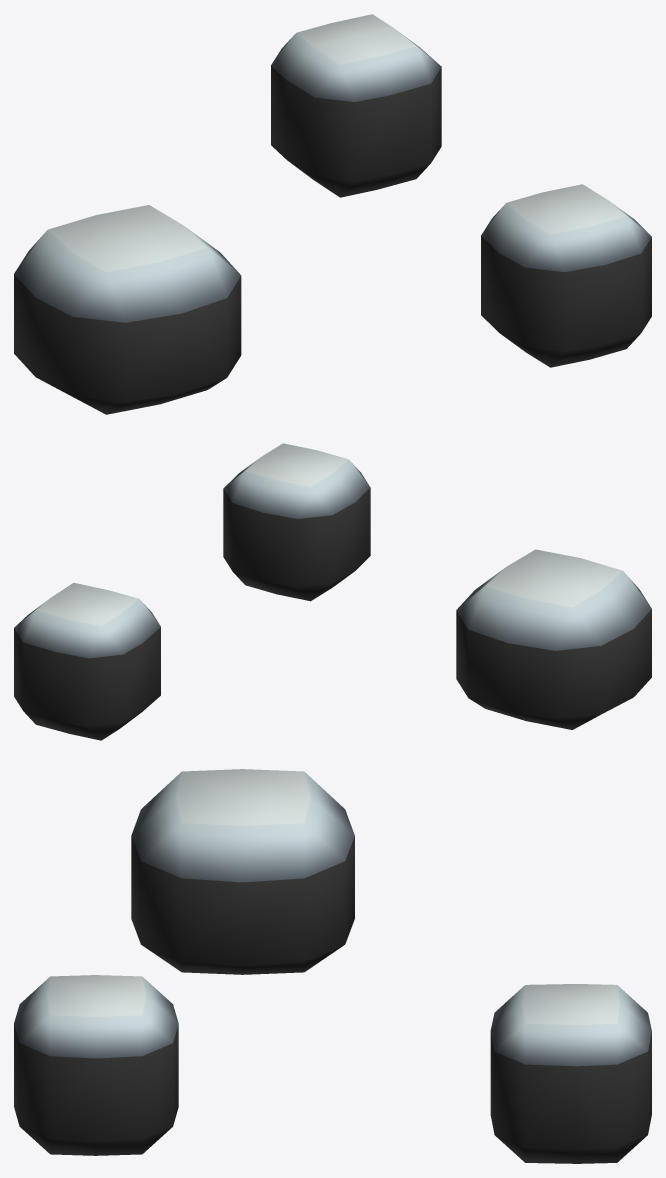
Rendered from Pebbles_Snow_1.fbx.
The picture shows the model from 3 angles, top to bottom: view 1: azimuth 30°, elevation 25°; view 2: azimuth 150°, elevation 25°; view 3: azimuth 270°, elevation 25°; orthographic projection. The views are drawn at different scales.
Parts seen in each view (by area): view 1: Pebbles_Snow_1_LOD0; view 2: Pebbles_Snow_1_LOD0; view 3: Pebbles_Snow_1_LOD0.
Part boxes in pixels (bbox=[...]): Pebbles_Snow_1_LOD0: bbox=[14, 14, 651, 414]; Pebbles_Snow_1_LOD0: bbox=[14, 443, 651, 740]; Pebbles_Snow_1_LOD0: bbox=[14, 769, 651, 1163].
Size of what is drawn, in the model's own units: 0.5696 by 0.1424 by 0.5519.
